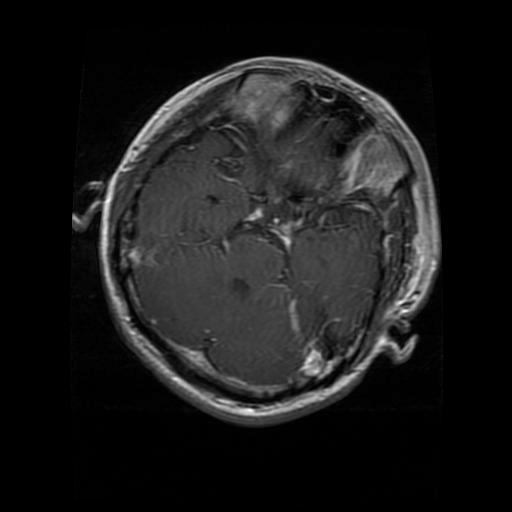Tumour-Glioma: (293, 316, 366, 394)
